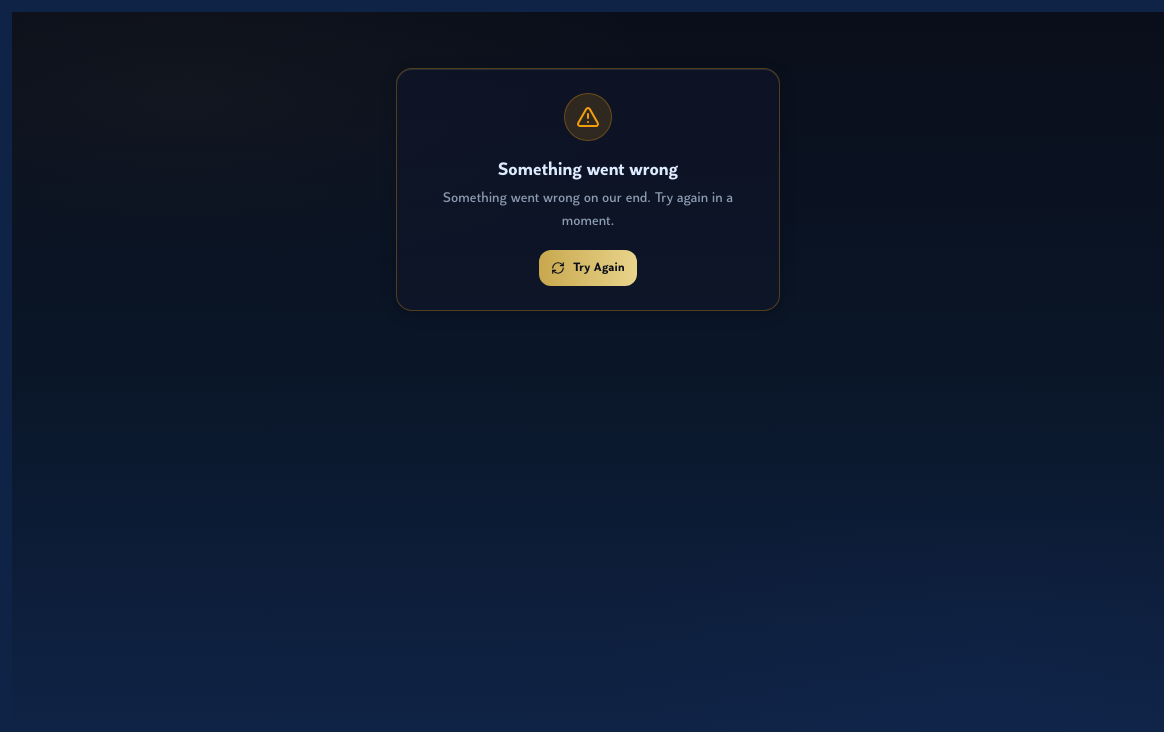
Test case: NextActionsBar › shows a visible error with a working retry when the boundary errors, never the resting line
The width and height of the screenshot is (1164, 732).
Expected: the message shows "Something went wrong on our end. Try again in a moment.", [443,191,733,229]
Expected: the message does not show "ECONNRESET", [396,68,780,310]
Click the button "Try Again".
click(588, 268)  # box [539,250,637,286]
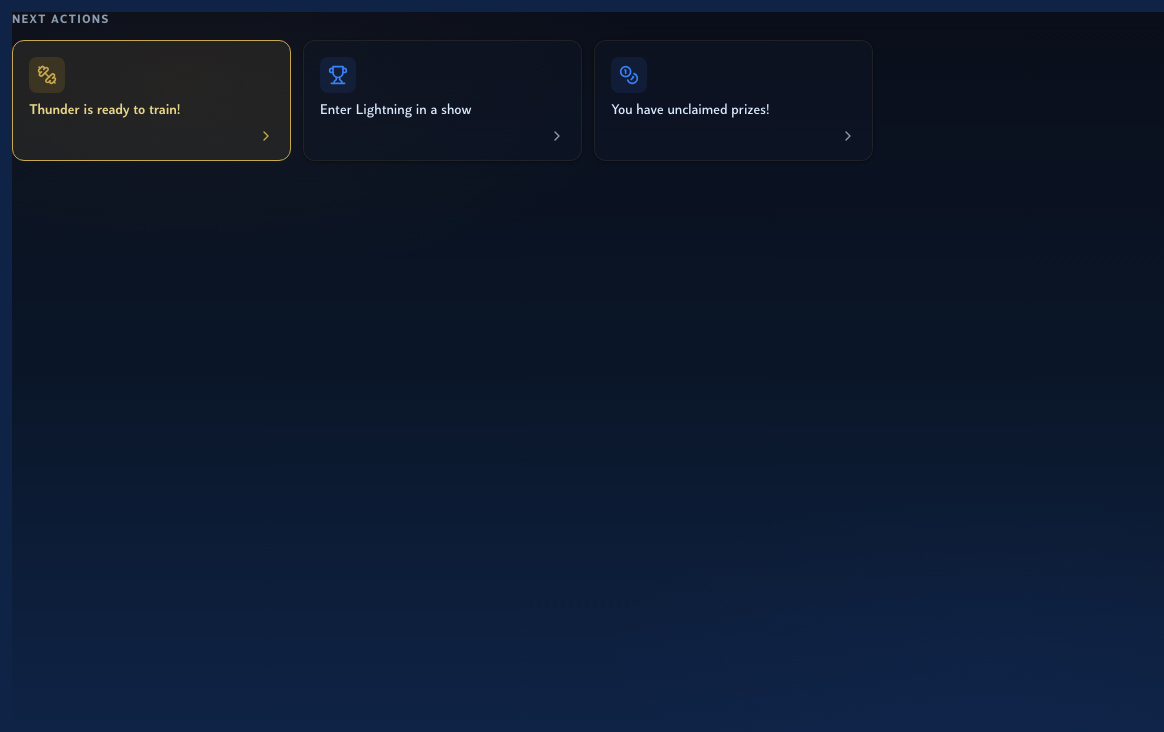
Expected: the text "Thunder is ready to train!" is shown, [29,101,180,120]
Expected: the message is gone
